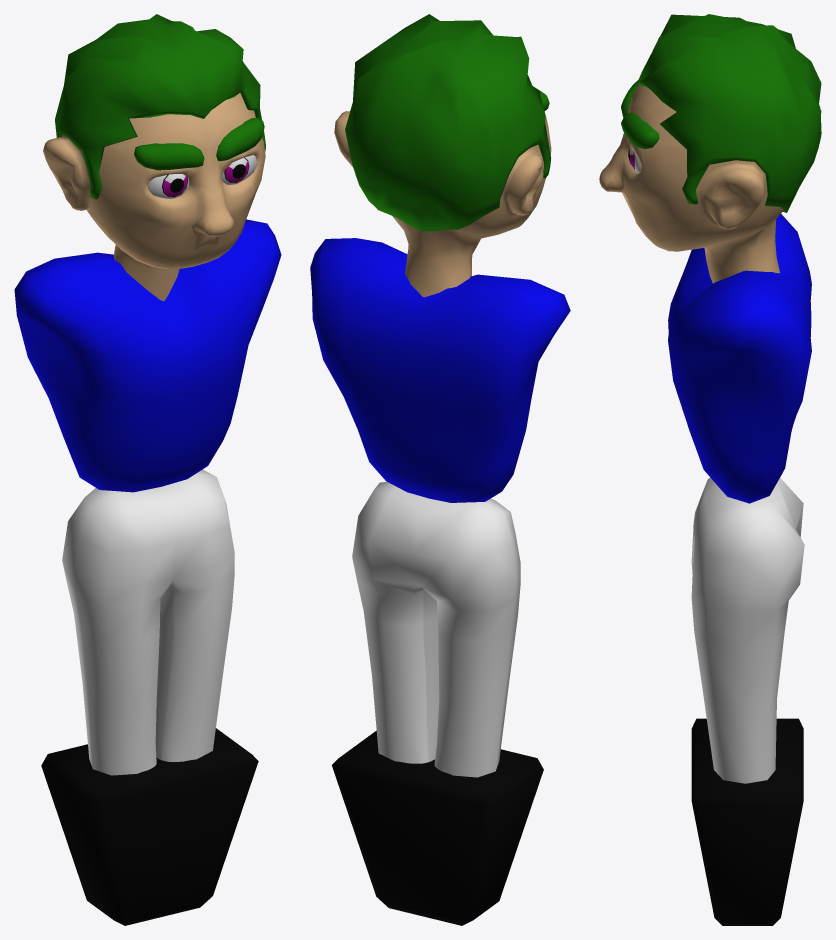
File: Figure.glb
The picture shows the model from 3 angles, left to right: view 1: azimuth 30°, elevation 25°; view 2: azimuth 150°, elevation 25°; view 3: azimuth 270°, elevation 25°; orthographic projection. The views are drawn at different scales.
Parts seen in each view (by area): view 1: Character; view 2: Character; view 3: Character.
Part boxes in pixels (box(x1,y1,x2,y2)): Character: box(14, 14, 281, 925); Character: box(310, 14, 570, 925); Character: box(599, 14, 821, 925).
Bounding box in the file's own units: 0.8042 × 2.67 × 0.6089.
Materials: 4 (1 with a texture image).
